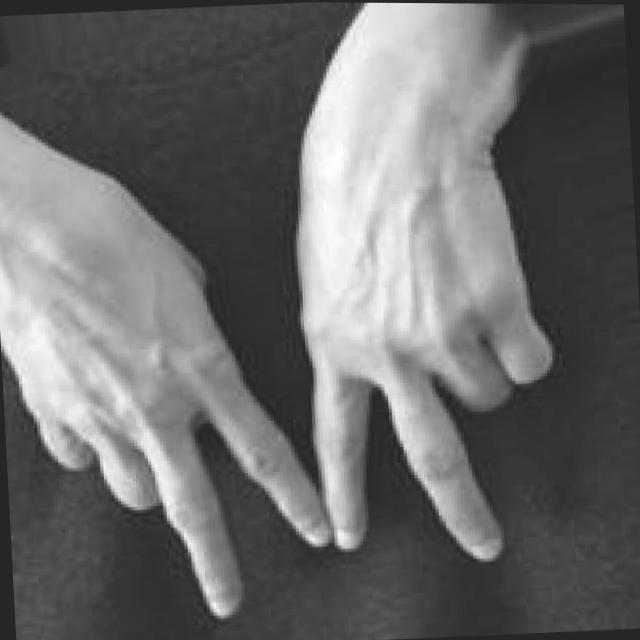M: (4, 148, 574, 640)
